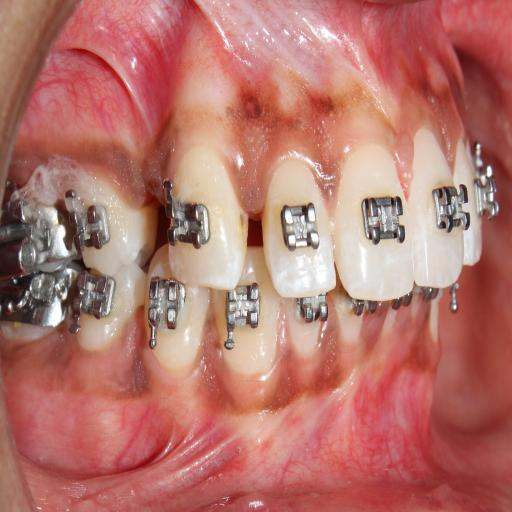correct_brace: (70, 173, 150, 279), (278, 190, 322, 264), (357, 188, 405, 252), (164, 190, 211, 253), (427, 172, 470, 240)
incorrect_brace: (264, 156, 328, 309), (73, 194, 110, 255)
